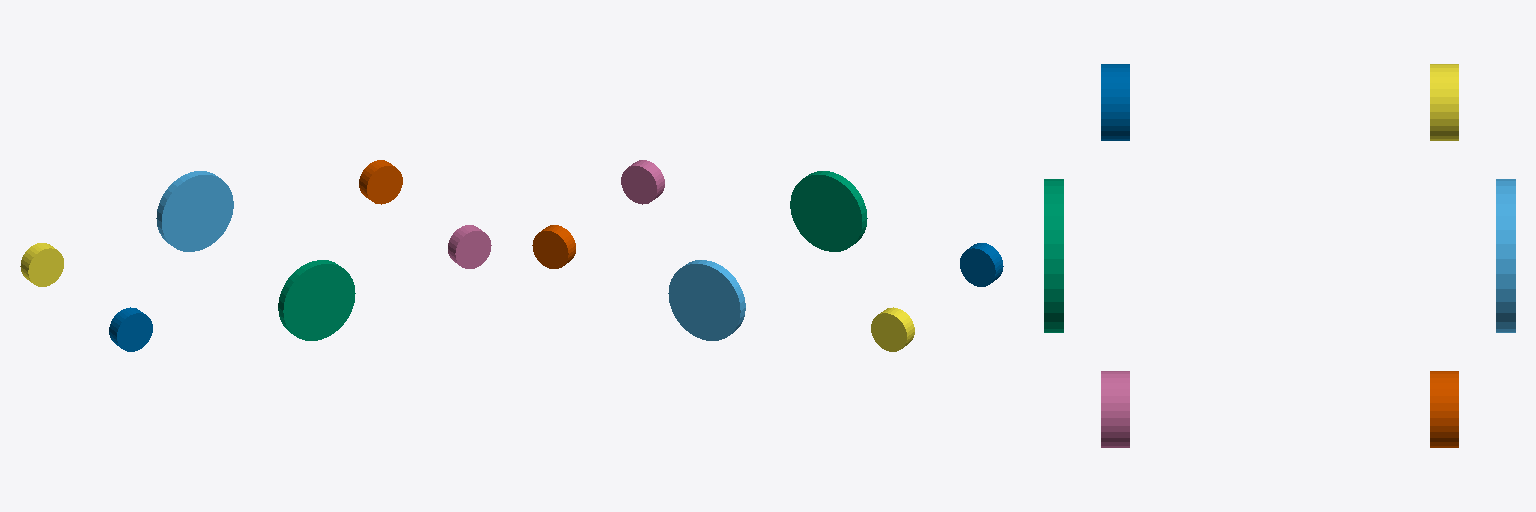
The robot description file, URDF, robot "myfirst":
<?xml version="1.0"?>
<robot name="myfirst">
  <link name="base_link">
    <origin rpy="0 0 0" xyz="0 0 0"/>
  </link>

  <link name="right_wheel">
    <visual>
      <geometry>
        <cylinder length="0.02" radius="0.08"/>
      </geometry>
      <origin rpy="1.5707 0 0" xyz="0 0.2335 0"/>
    </visual>
  </link>

  <joint name="base_to_right_wheel" type="fixed">
    <parent link="base_link"/>
    <child link="right_wheel"/>
    <origin xyz="0 0 0"/>
  </joint>


  <link name="left_wheel">
    <visual>
      <geometry>
        <cylinder length="0.02" radius="0.08"/>
      </geometry>
      <origin rpy="1.5707 0 0" xyz="0 -0.2335 0"/>
    </visual>
  </link>

  <joint name="base_to_left_wheel" type="fixed">
    <parent link="base_link"/>
    <child link="left_wheel"/>
    <origin xyz="0 0 0"/>
  </joint>


  <link name="right_front_caster_wheel">
    <visual>
      <geometry>
        <cylinder length="0.03" radius="0.04"/>
      </geometry>
      <origin rpy="1.5707 0 0" xyz="-0.375 0.170 0"/>
    </visual>
  </link>

  <joint name="base_to_right_front_caster_wheel" type="fixed">
    <parent link="base_link"/>
    <child link="right_front_caster_wheel"/>
    <origin xyz="0 0 0"/>
  </joint>


  <link name="left_front_caster_wheel">
    <visual>
      <geometry>
        <cylinder length="0.03" radius="0.04"/>
      </geometry>
      <origin rpy="1.5707 0 0" xyz="-0.375  -0.170 0"/>
    </visual>
  </link>

  <joint name="base_to_left_front_caster_wheel" type="fixed">
    <parent link="base_link"/>
    <child link="left_front_caster_wheel"/>
    <origin xyz="0 0 0"/>
  </joint>


  <link name="right_back_caster_wheel">
    <visual>
      <geometry>
        <cylinder length="0.03" radius="0.04"/>
      </geometry>
      <origin rpy="1.5707 0 0" xyz="0.375  0.170 0"/>
    </visual>
  </link>

  <joint name="base_to_right_back_caster_wheel" type="fixed">
    <parent link="base_link"/>
    <child link="right_back_caster_wheel"/>
    <origin xyz="0 0 0"/>
  </joint>


  <link name="left_back_caster_wheel">
    <visual>
      <geometry>
        <cylinder length="0.03" radius="0.04"/>
      </geometry>
      <origin rpy="1.5707 0 0" xyz="0.375  -0.170 0"/>
    </visual>
  </link>

  <joint name="base_to_left_back_caster_wheel" type="fixed">
    <parent link="base_link"/>
    <child link="left_back_caster_wheel"/>
    <origin xyz="0 0 0"/>
  </joint>  

</robot>

--- Facts derived from the render (not from the file) ---
The picture shows the robot from 3 angles, left to right: view 1: azimuth 30°, elevation 25°; view 2: azimuth 150°, elevation 25°; view 3: azimuth 270°, elevation 25°; orthographic projection.
Model myfirst with 7 links and 6 joints (6 fixed), rooted at base_link, posed every joint at zero.
Visible links, largest first — view 1: right_wheel, left_wheel, left_front_caster_wheel, right_back_caster_wheel, right_front_caster_wheel, left_back_caster_wheel; view 2: right_wheel, left_wheel, right_front_caster_wheel, left_back_caster_wheel, left_front_caster_wheel, right_back_caster_wheel; view 3: right_wheel, left_wheel, right_front_caster_wheel, left_front_caster_wheel, right_back_caster_wheel, left_back_caster_wheel.
Link boxes in pixels (bbox=[...]): right_wheel: bbox=[156, 171, 233, 251]; left_wheel: bbox=[278, 260, 355, 340]; left_front_caster_wheel: bbox=[109, 307, 152, 351]; right_back_caster_wheel: bbox=[359, 160, 402, 204]; right_front_caster_wheel: bbox=[20, 243, 63, 286]; left_back_caster_wheel: bbox=[448, 225, 491, 268]; right_wheel: bbox=[668, 260, 745, 340]; left_wheel: bbox=[790, 171, 867, 251]; right_front_caster_wheel: bbox=[871, 307, 914, 351]; left_back_caster_wheel: bbox=[621, 160, 664, 204]; left_front_caster_wheel: bbox=[960, 243, 1003, 286]; right_back_caster_wheel: bbox=[532, 225, 575, 268]; right_wheel: bbox=[1496, 179, 1515, 332]; left_wheel: bbox=[1044, 179, 1063, 332]; right_front_caster_wheel: bbox=[1430, 64, 1458, 140]; left_front_caster_wheel: bbox=[1101, 64, 1129, 140]; right_back_caster_wheel: bbox=[1430, 371, 1458, 447]; left_back_caster_wheel: bbox=[1101, 371, 1129, 447].
Bounding box of the posed robot: 0.83 × 0.487 × 0.16 m (x, y, z).
Geometry: primitives only (box / cylinder / sphere), no mesh files.
